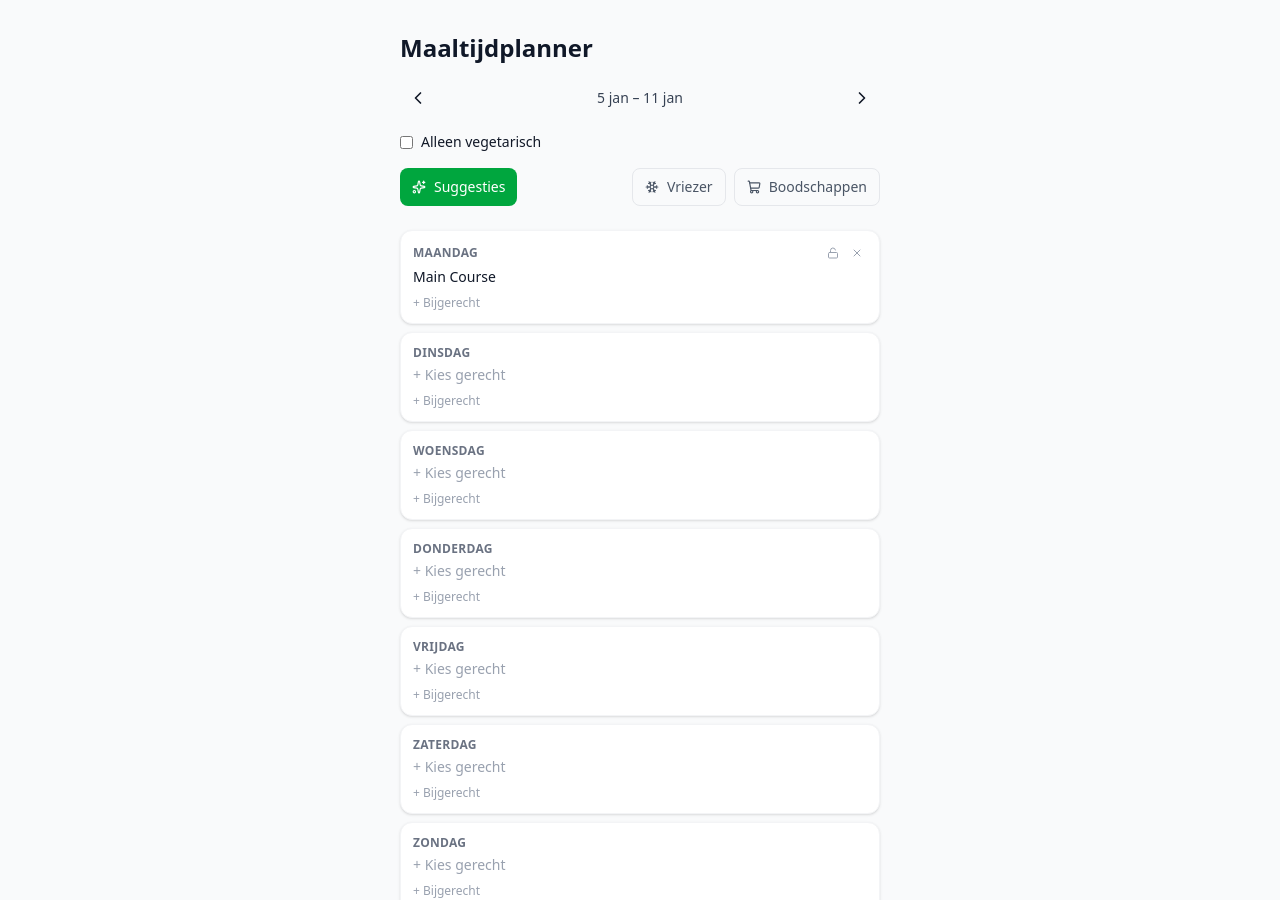
Test: Planner side dishes › restricts the side-dish picker to recipes flagged as a side dish
Expected: the link "Main Course" is shown, top-left (413, 267), bottom-right (496, 286)
Click the button "+ Bijgerecht" below "Main Course" at (447, 303), box top-left (413, 295), bottom-right (480, 311)
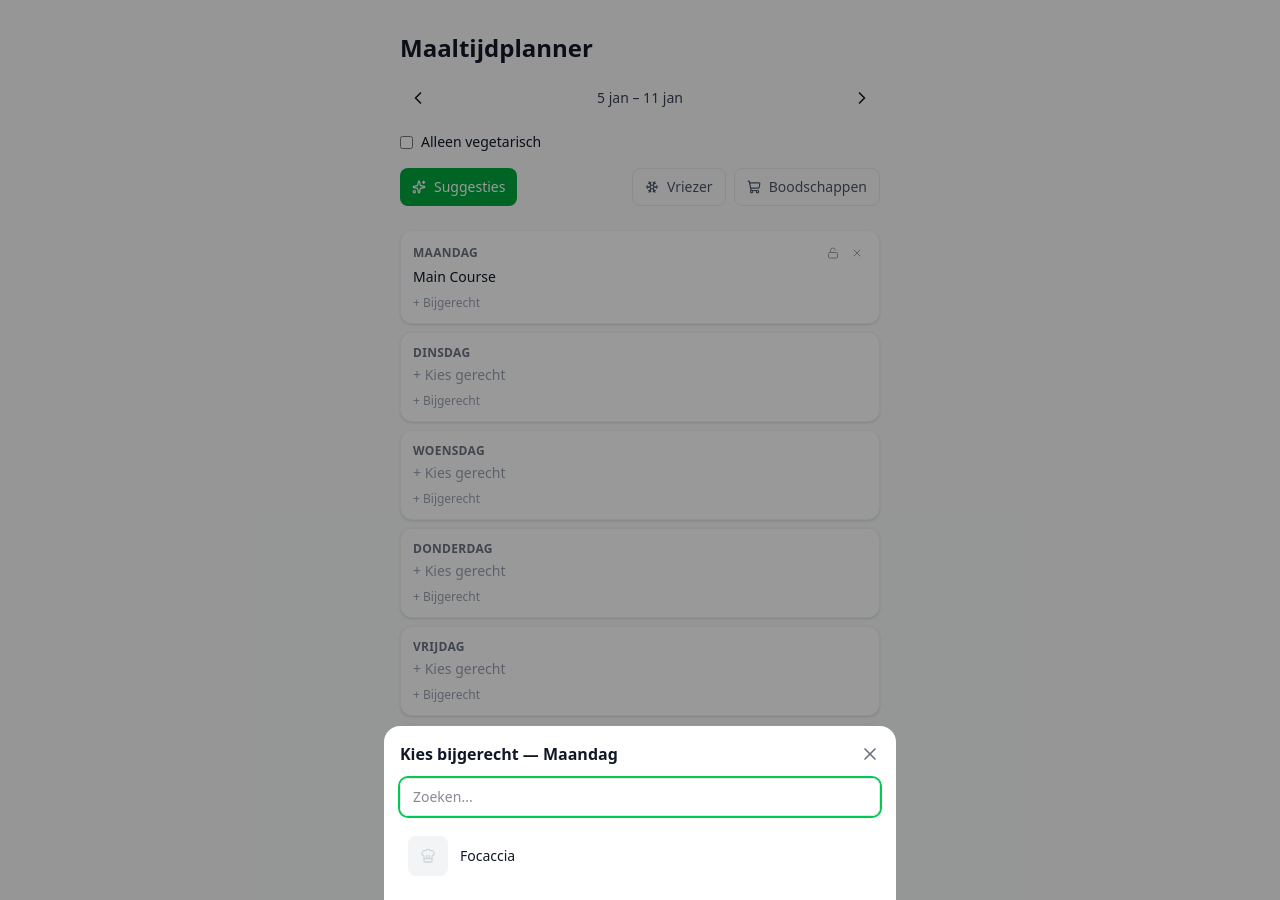
Now the text "Focaccia" is shown, box top-left (460, 846), bottom-right (515, 866)
